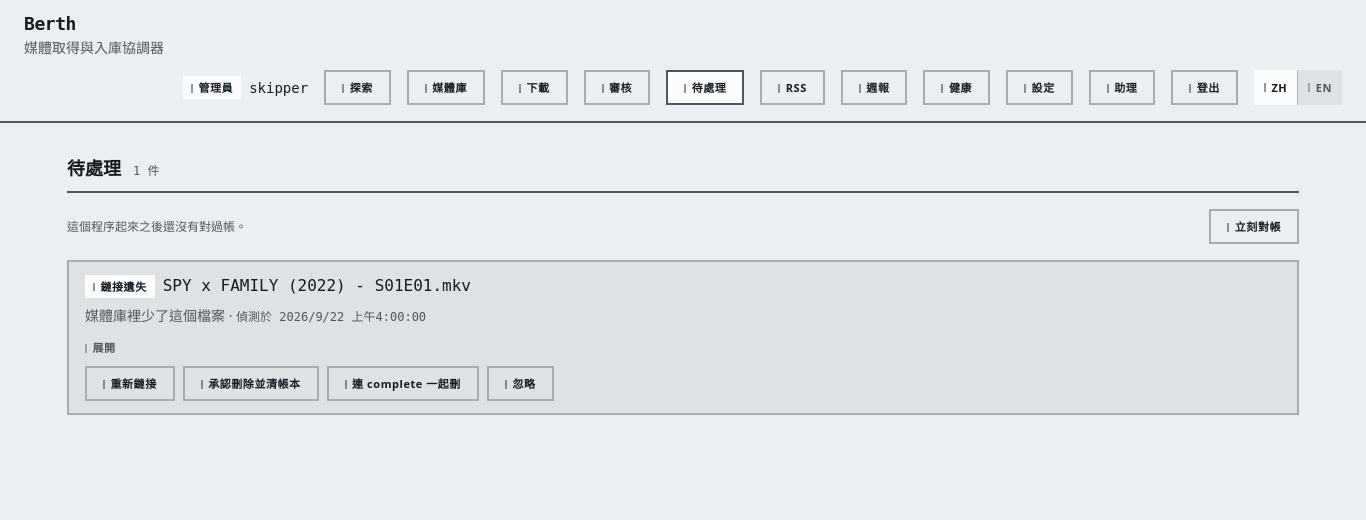
Scenario: 待處理頁 › 展開之後看得到完整路徑與來源
Click the heading "展開".
click(104, 348)  # box [92,340,116,355]
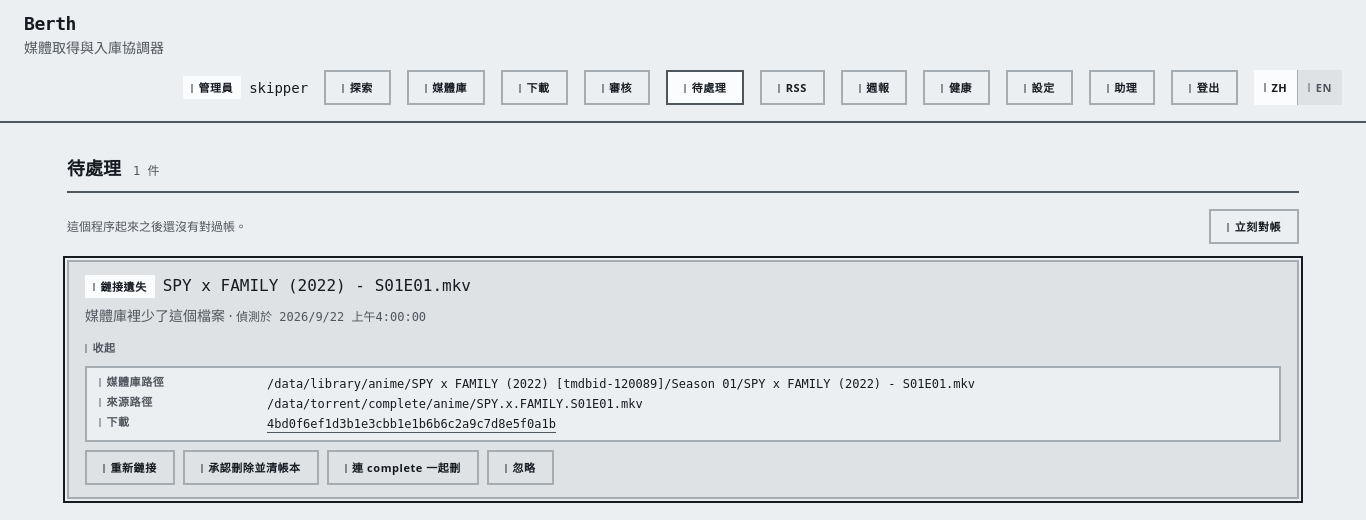
expect the text "/data/library/anime/SPY x FAMILY (2022) [tmdbid-120089]/Season 01/SPY x FAMILY (2022) - S01E01.mkv" is shown: met, box [267,377,975,391]
expect the text "/data/torrent/complete/anime/SPY.x.FAMILY.S01E01.mkv" is shown: met, box [267,397,643,411]
